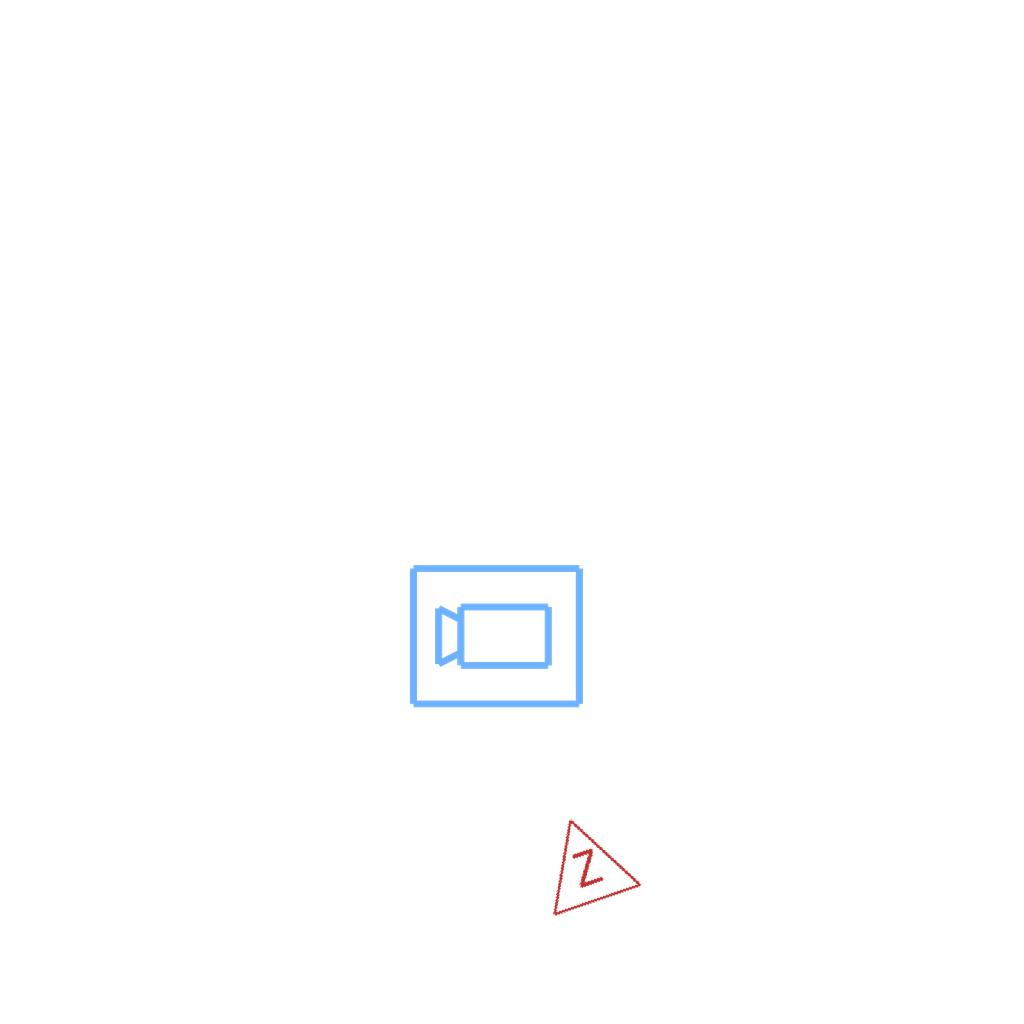KFO_Kamera_mit_Festobjektiv: (406, 558, 588, 712)
Zimmersignalleuchte: (520, 797, 646, 925)
